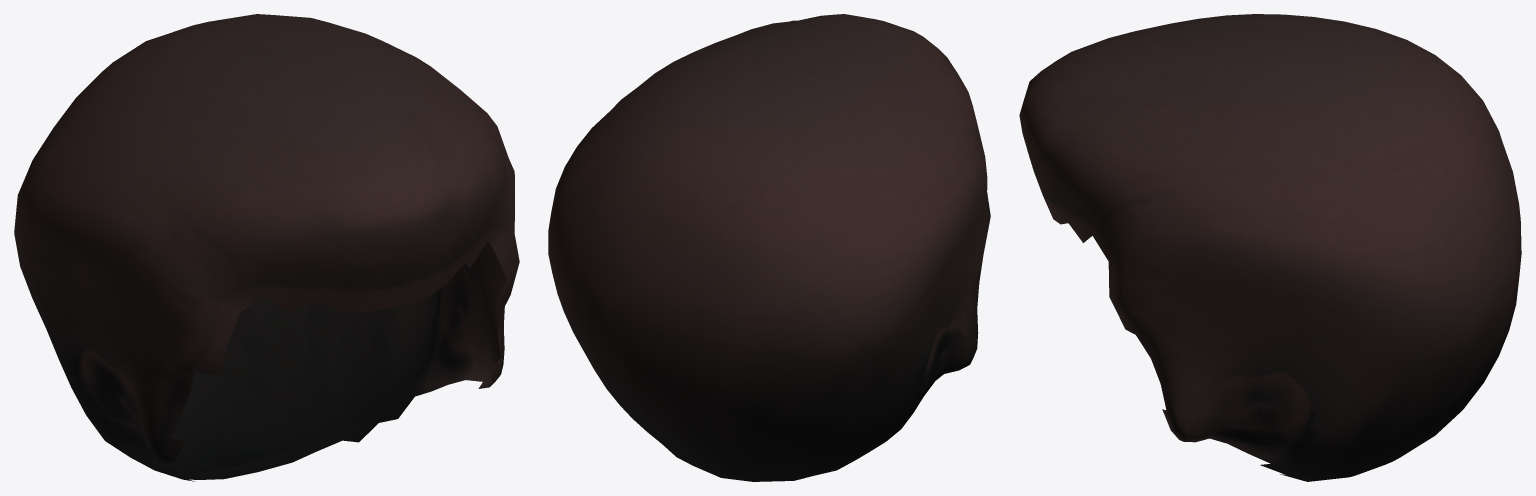
Rendered from Hair_M00.fbx.
The picture shows the model from 3 angles, left to right: view 1: azimuth 30°, elevation 25°; view 2: azimuth 150°, elevation 25°; view 3: azimuth 270°, elevation 25°; orthographic projection. The views are drawn at different scales.
Parts seen in each view (by area): view 1: Hair_M00; view 2: Hair_M00; view 3: Hair_M00.
Part boxes in pixels (<box>): Hair_M00: <box>14,14,519,481</box>; Hair_M00: <box>548,14,990,481</box>; Hair_M00: <box>1019,14,1521,481</box>.
Bounding box in the file's own units: 3.49 × 3.54 × 3.83.
